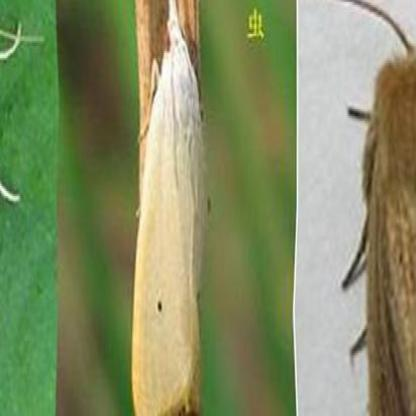stem-borer: (130, 0, 209, 416)
